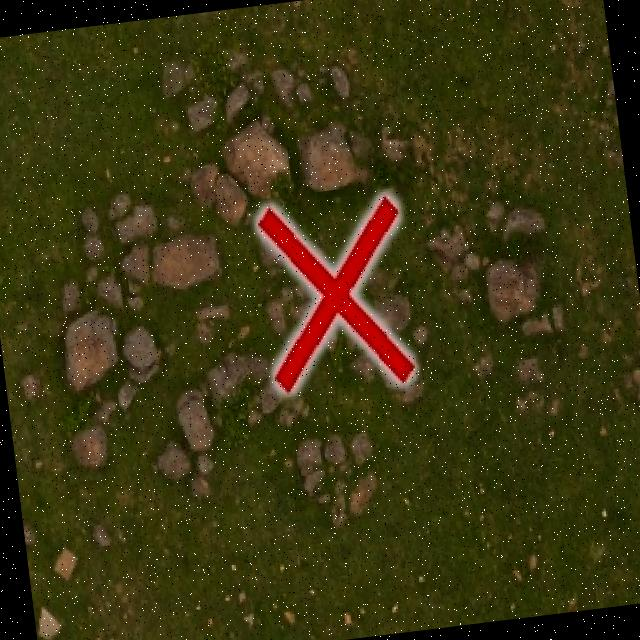x_marker: (253, 192, 417, 396)
